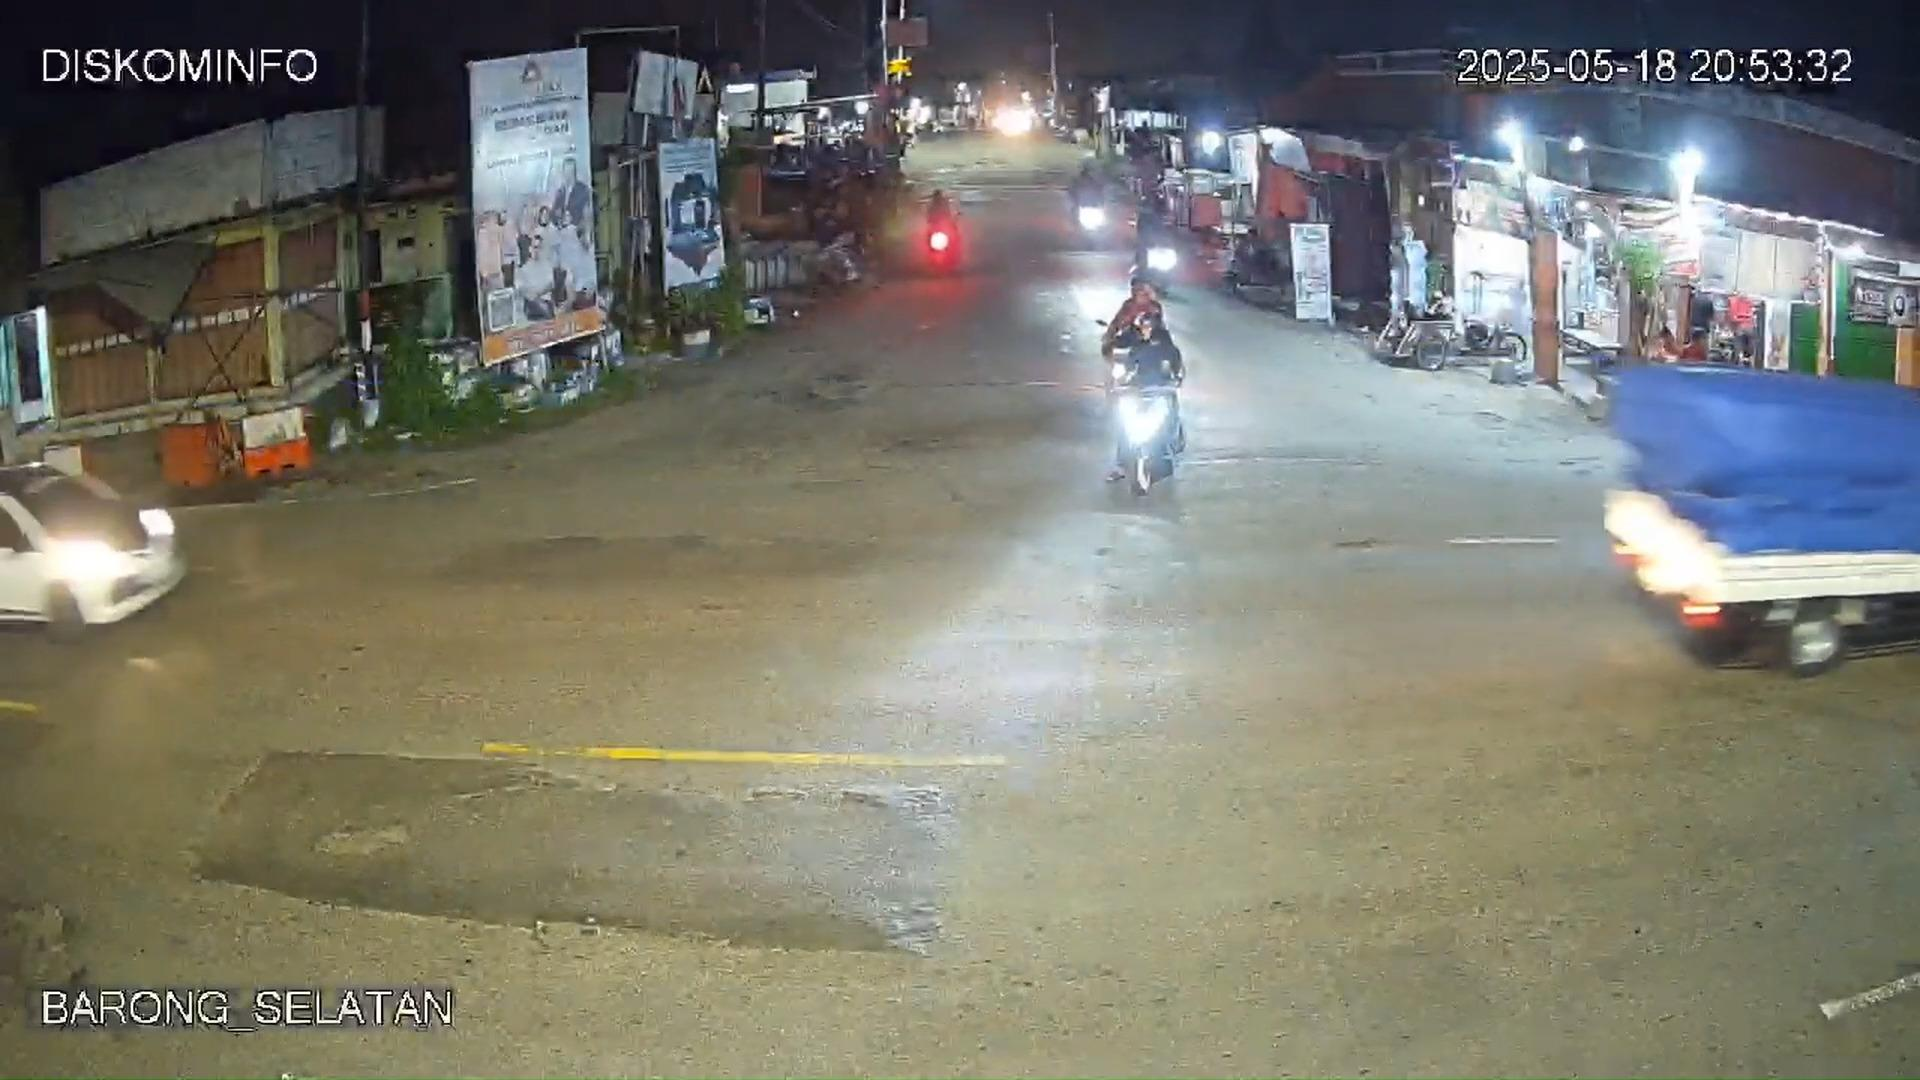Motor: (1072, 264, 1170, 496), (923, 186, 961, 272)
mobil: (3, 465, 187, 634)
